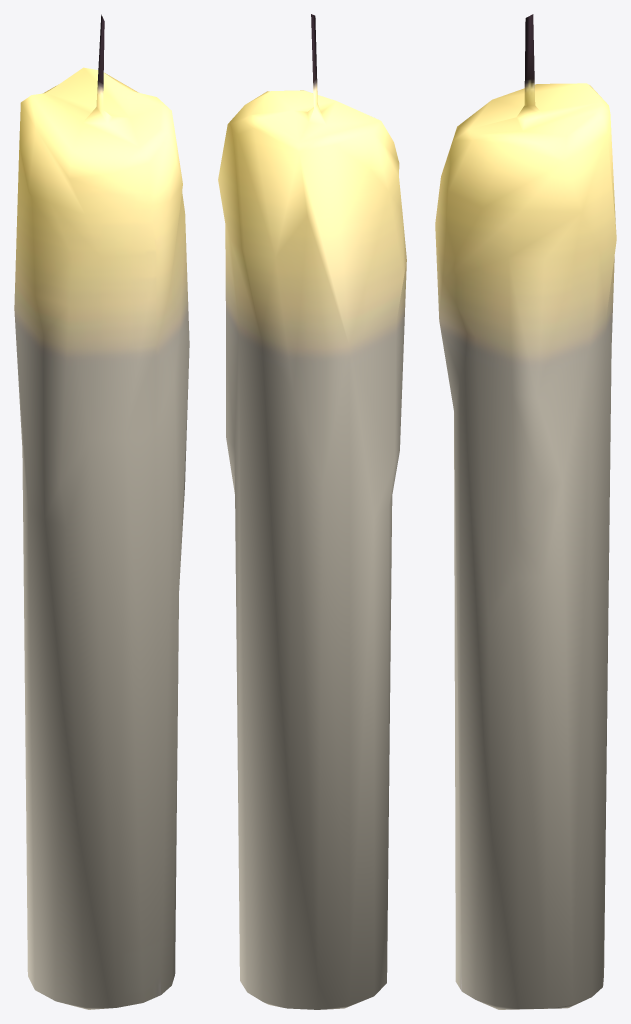
File: candle.lo.glb
3 renders of one model, left to right at view 1: azimuth 30°, elevation 25°; view 2: azimuth 150°, elevation 25°; view 3: azimuth 270°, elevation 25°, orthographic.
Parts seen in each view (by area): view 1: CandleLow.uvl; view 2: CandleLow.uvl; view 3: CandleLow.uvl.
Boxes of the visible parts, x1,y1,x2,y2 form: CandleLow.uvl: [14, 14, 189, 1009]; CandleLow.uvl: [218, 14, 406, 1009]; CandleLow.uvl: [435, 14, 616, 1009].
Size of the model in its own units: 0.0562 by 0.3196 by 0.0541.
Materials: 1 (1 with a texture image).
